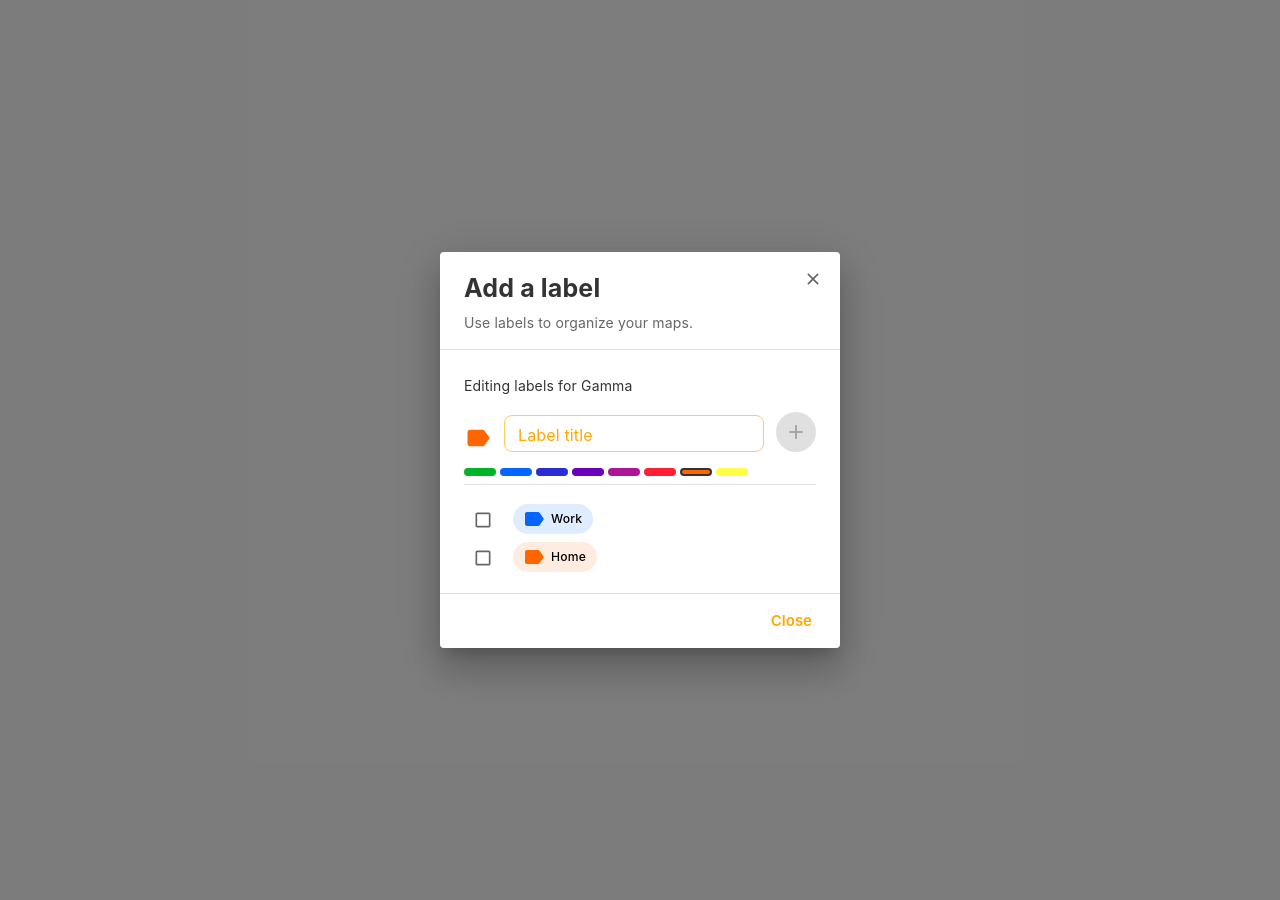
it: LabelDialog › shows the error when a label can not be changed
The width and height of the screenshot is (1280, 900).
What coordinates should you click on to do the following:
click the checkbox labelled "Work"
I would click on:
 (533, 519)
Its box is [473,504,593,534].
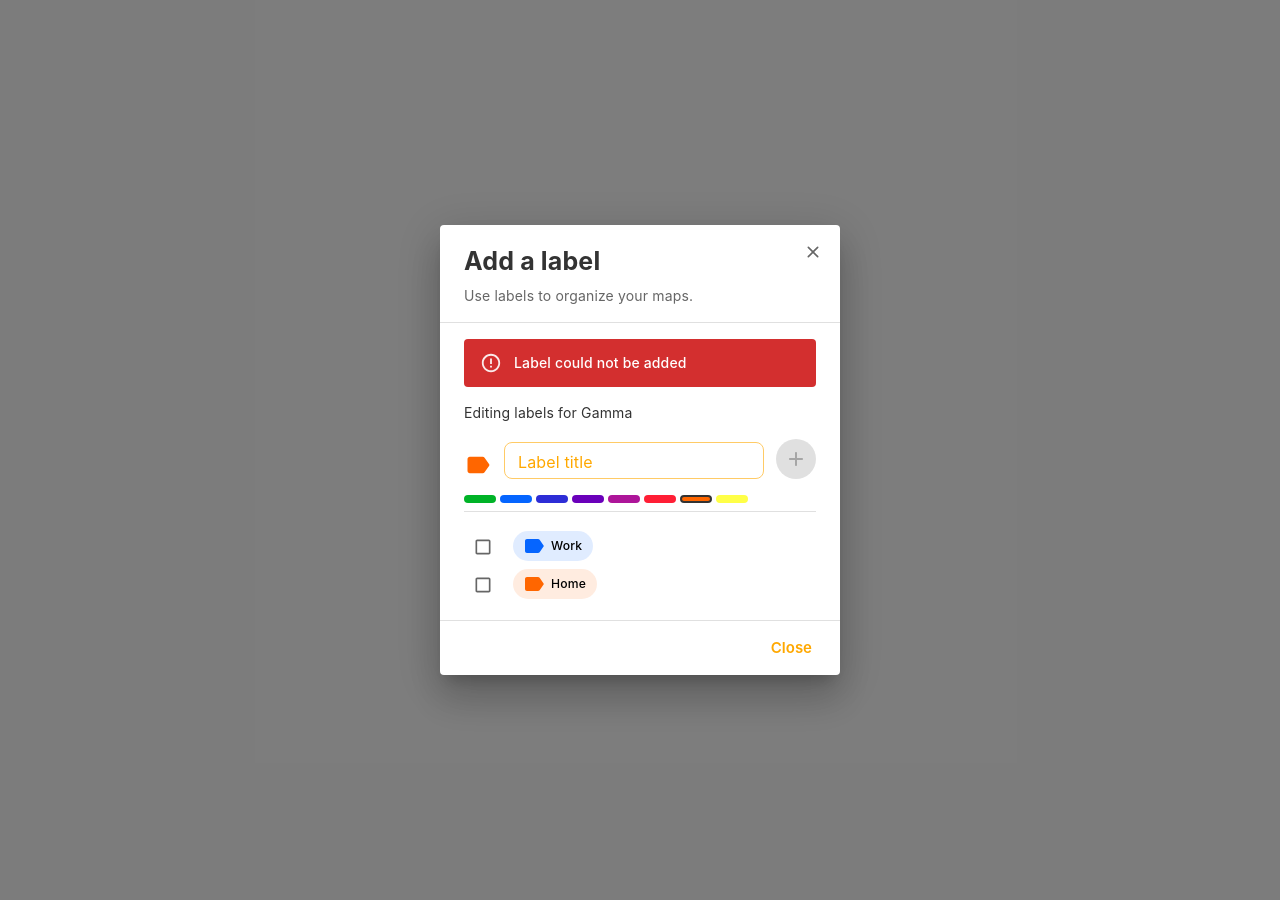
Expected: the text "Label could not be added" is shown, [514,354,687,371]
